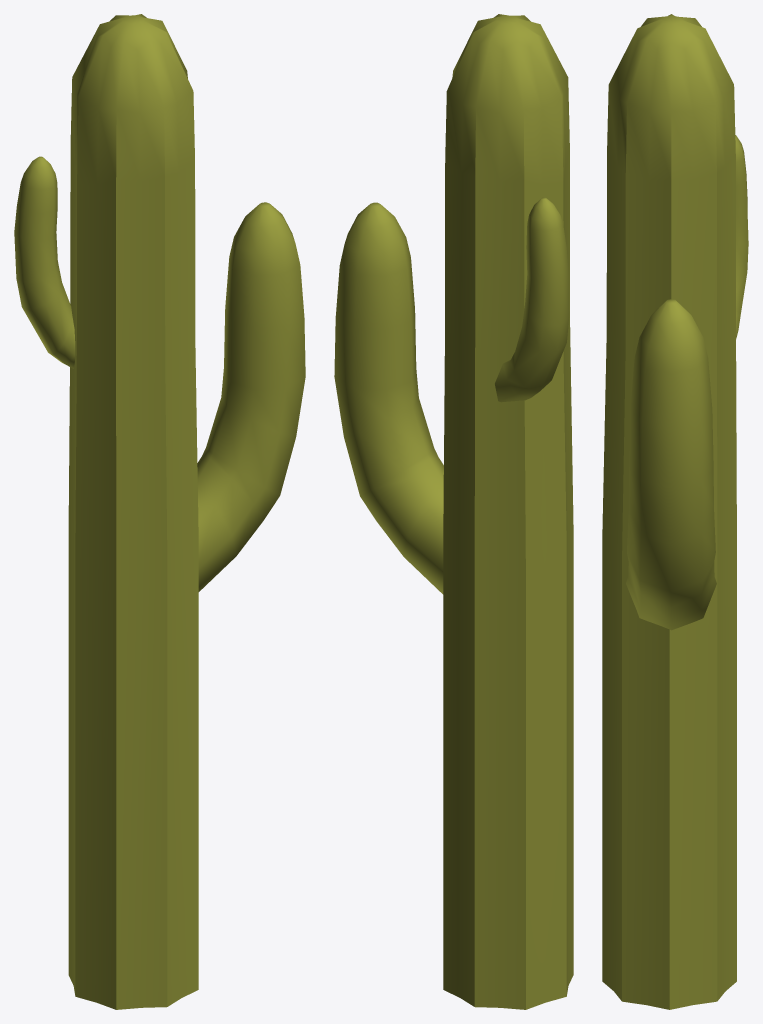
The model's file is GrandCactus.fbx.
3 renders of one model, left to right at view 1: azimuth 30°, elevation 25°; view 2: azimuth 150°, elevation 25°; view 3: azimuth 270°, elevation 25°, orthographic.
Visible parts, largest first — view 1: Cylinder.034, Cylinder.035, Cylinder.036; view 2: Cylinder.034, Cylinder.035, Cylinder.036; view 3: Cylinder.034, Cylinder.035, Cylinder.036.
Part boxes in pixels (left/top/right/bottom): Cylinder.034: left=68, top=14, right=198, bottom=1009; Cylinder.035: left=197, top=202, right=305, bottom=591; Cylinder.036: left=14, top=156, right=75, bottom=368; Cylinder.034: left=443, top=14, right=573, bottom=1009; Cylinder.035: left=334, top=202, right=443, bottom=594; Cylinder.036: left=495, top=197, right=569, bottom=402; Cylinder.034: left=602, top=14, right=736, bottom=1009; Cylinder.035: left=626, top=299, right=716, bottom=630; Cylinder.036: left=735, top=135, right=748, bottom=338.
Size of the model in its own units: 190 by 685 by 94.38.
